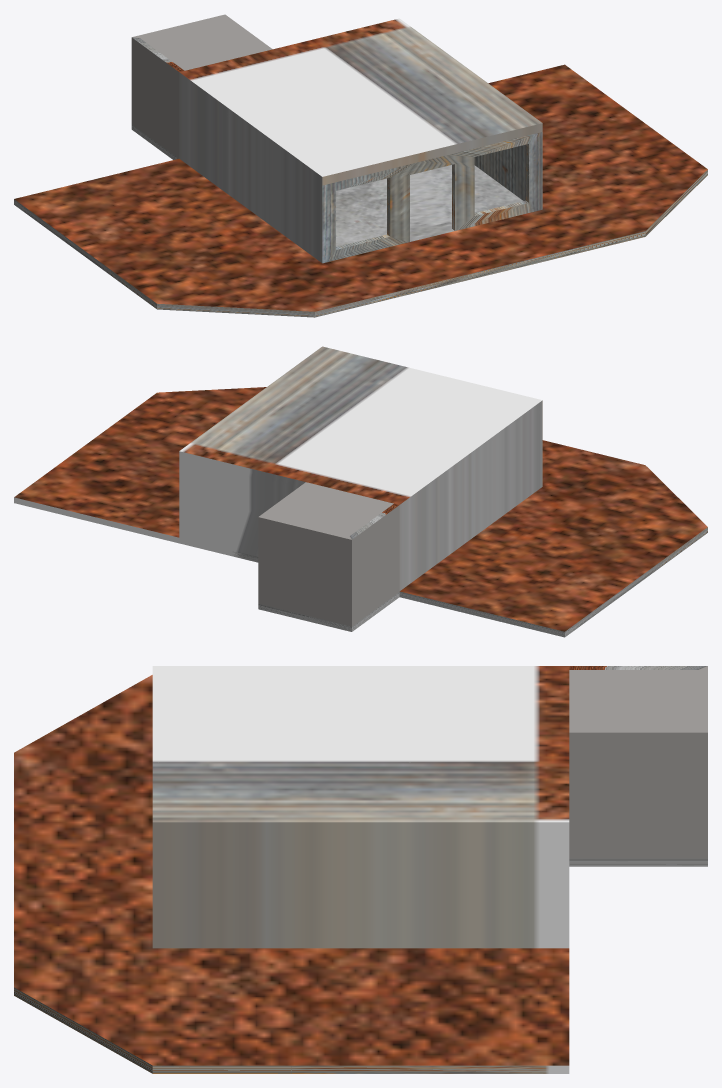
File: testmap2 (1).fbx
3 views of the same model, one above another, from view 1: azimuth 30°, elevation 25°; view 2: azimuth 150°, elevation 25°; view 3: azimuth 270°, elevation 25° (orthographic). The views are drawn at different scales.
Parts seen in each view (by area): view 1: Map; view 2: Map; view 3: Map.
Boxes of the visible parts, x1,y1,x2,y2 form: Map: [14, 14, 707, 317]; Map: [14, 346, 707, 637]; Map: [14, 666, 707, 1073].
Bounding box in the file's own units: 2000 × 320 × 1500.
